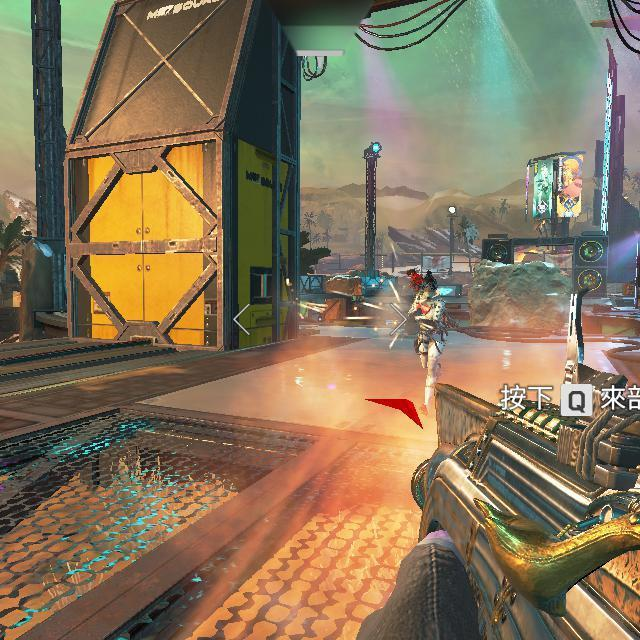avatar: (409, 269, 450, 407)
